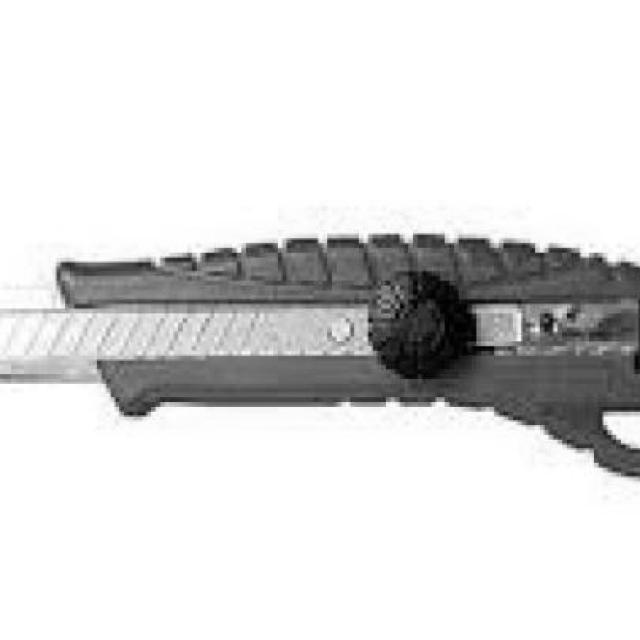estilete: (0, 235, 640, 476)
